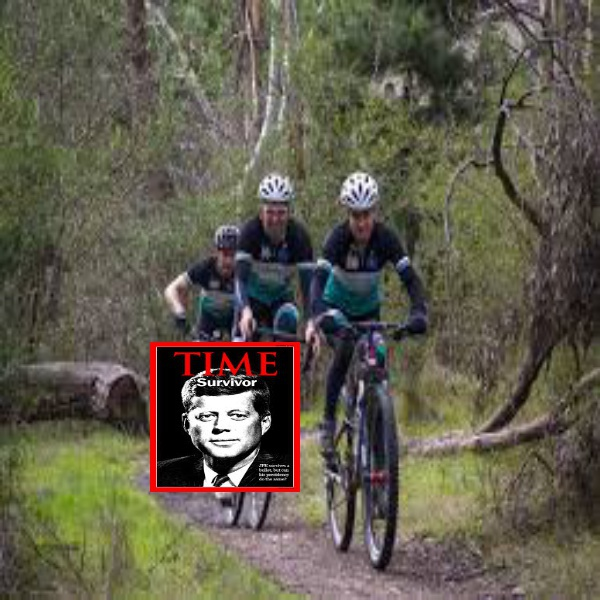time_cover: (142, 337, 297, 488)
